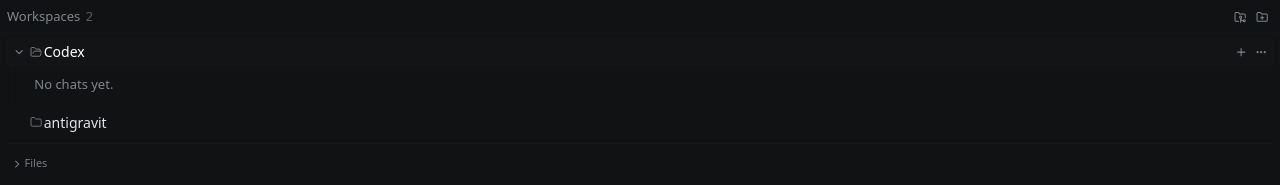
DockNavigator › uses compact icon-only workspace actions in-flow
The width and height of the screenshot is (1280, 185).
Expected: the element showing "Codex No chats yet." is shown, [5,38,1275,105]
Click the button named "Workspace actions": (1261, 52) [1252,41,1270,62]
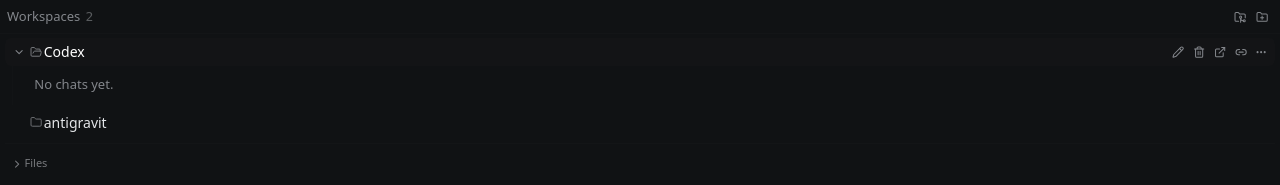
Expected: the element showing "No chats yet." is shown, [12,66,1275,105]
Result: the menu item named "Reveal in Explorer" is shown at [1210,41,1231,62]
